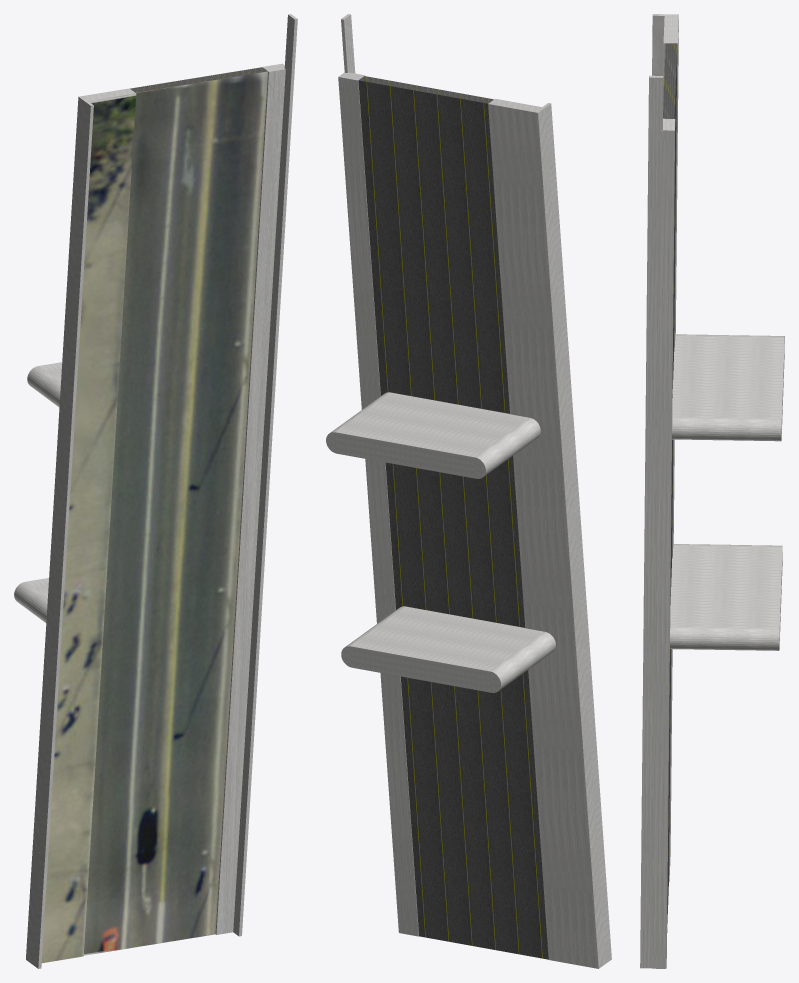
Rendered from novo4p.obj.
3 renders of one model, left to right at view 1: azimuth 30°, elevation 25°; view 2: azimuth 150°, elevation 25°; view 3: azimuth 270°, elevation 25°, orthographic. The views are drawn at different scales.
Visible parts, largest first — view 1: bridge_Cube_Cube.002; view 2: bridge_Cube_Cube.002; view 3: bridge_Cube_Cube.002.
Boxes of the visible parts, x1=… form: bridge_Cube_Cube.002: x1=14, y1=14, x2=297, y2=968; bridge_Cube_Cube.002: x1=326, y1=14, x2=611, y2=968; bridge_Cube_Cube.002: x1=640, y1=14, x2=784, y2=968.
Size of the model in its own units: 25.86 by 84.84 by 12.08.
5 materials, 5 textured.
